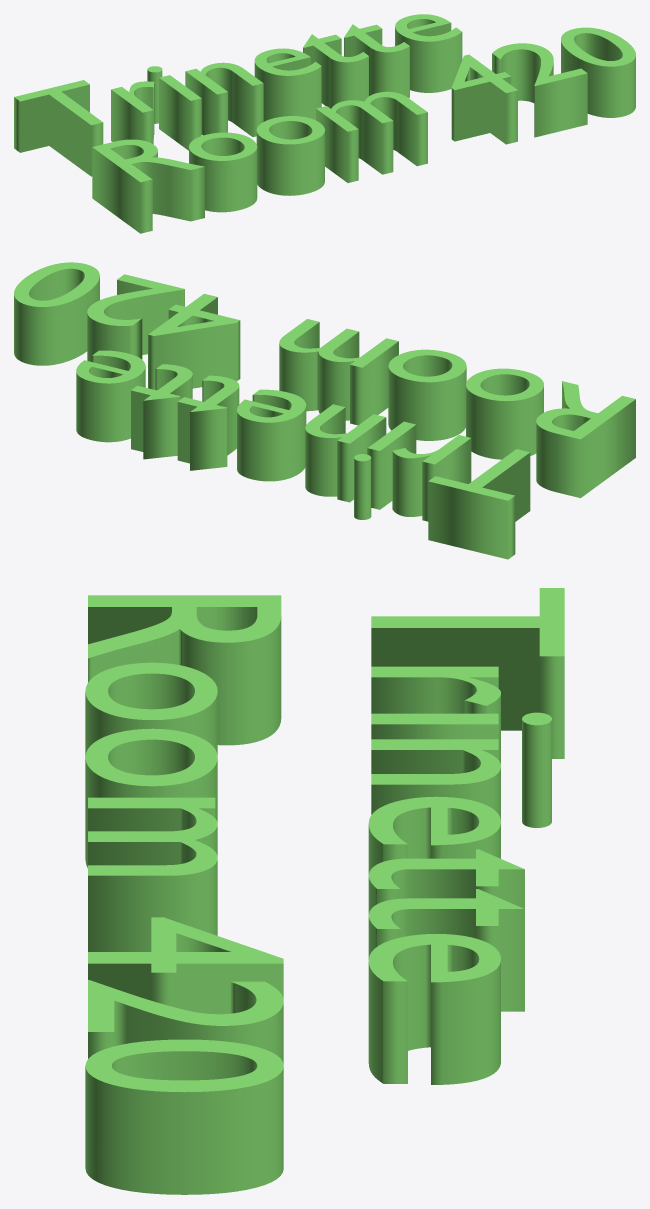
Rendered from trinette-420.gltf.
The picture shows the model from 3 angles, top to bottom: view 1: azimuth 30°, elevation 25°; view 2: azimuth 150°, elevation 25°; view 3: azimuth 270°, elevation 25°; orthographic projection. The views are drawn at different scales.
Visible parts, largest first — view 1: Text; view 2: Text; view 3: Text.
Part boxes in pixels (x1=…): Text: x1=14, y1=14, x2=635, y2=233; Text: x1=14, y1=262, x2=635, y2=559; Text: x1=85, y1=588, x2=564, y2=1194.
Size of the model in its own units: 4.21 by 0.4 by 1.69.
